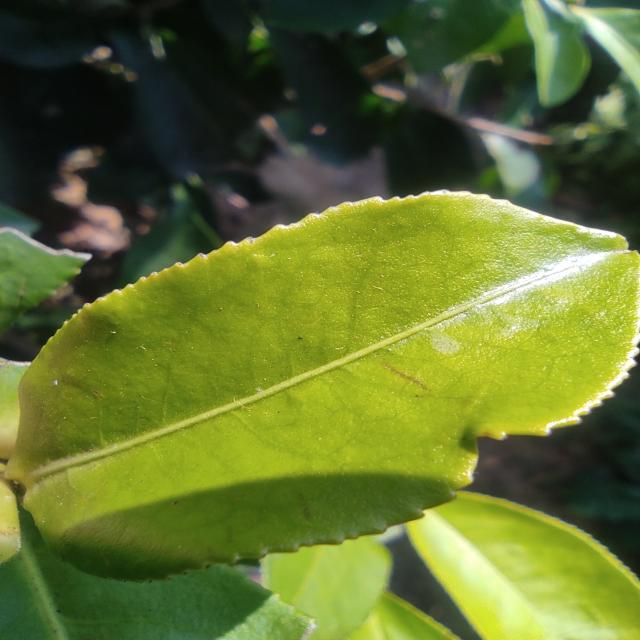Category C 4-7 days: (7, 156, 638, 579)
